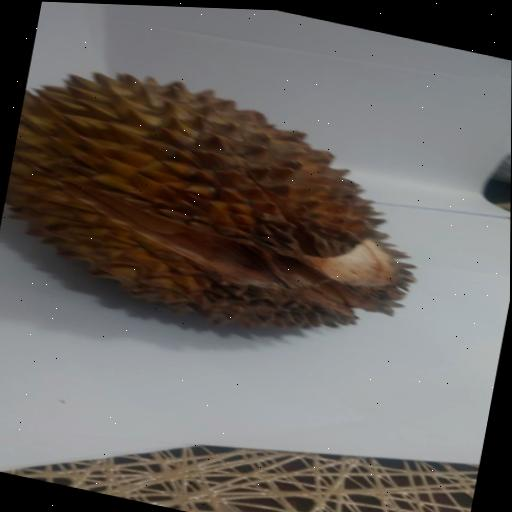rot: (0, 37, 468, 388)
